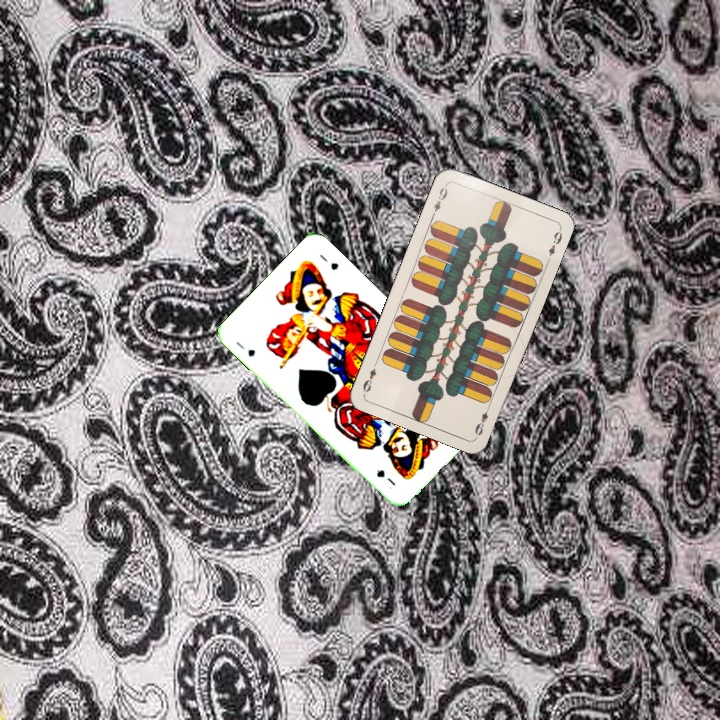E9: (428, 181, 450, 219), (471, 401, 493, 438)
GU: (232, 338, 258, 359)
